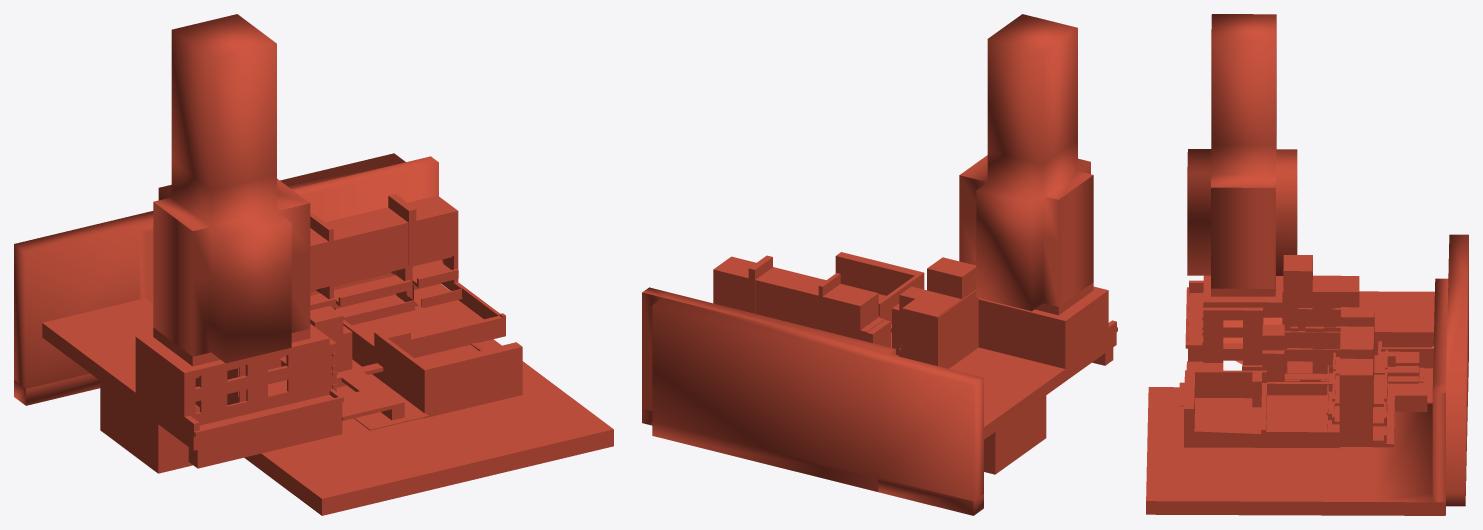
File: decor0.obj
3 views of the same model, side by side, from view 1: azimuth 30°, elevation 25°; view 2: azimuth 150°, elevation 25°; view 3: azimuth 270°, elevation 25° (orthographic). The views are drawn at different scales.
Parts seen in each view (by area): view 1: Cube.002; view 2: Cube.002; view 3: Cube.002.
Part boxes in pixels (<box>): Cube.002: <box>14,14,613,515</box>; Cube.002: <box>642,14,1117,515</box>; Cube.002: <box>1146,14,1468,515</box>.
Size of the model in its own units: 1428 by 1510 by 1232.
